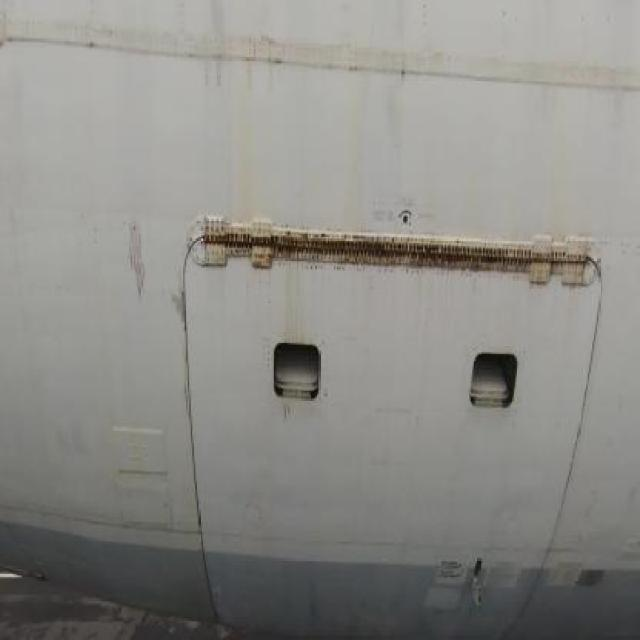Rust: (188, 199, 617, 312), (117, 210, 157, 316)
Scartch: (168, 267, 187, 359)
